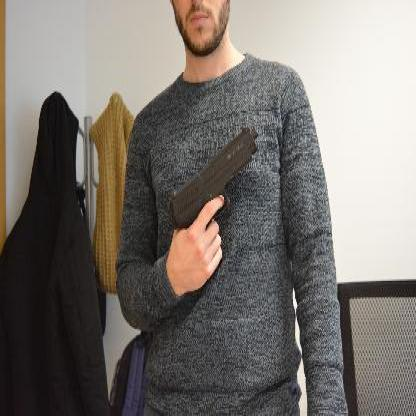pistol: (168, 123, 258, 230)
